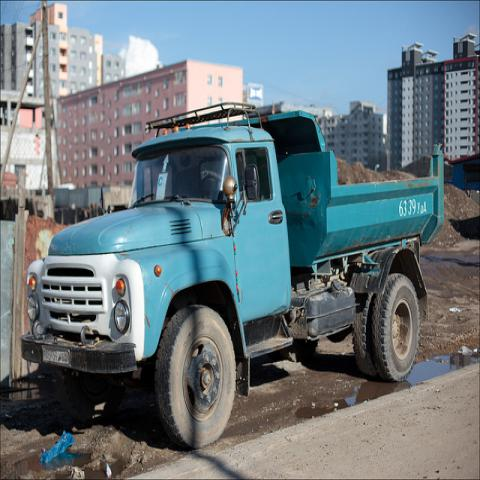truck: (16, 100, 446, 448)
